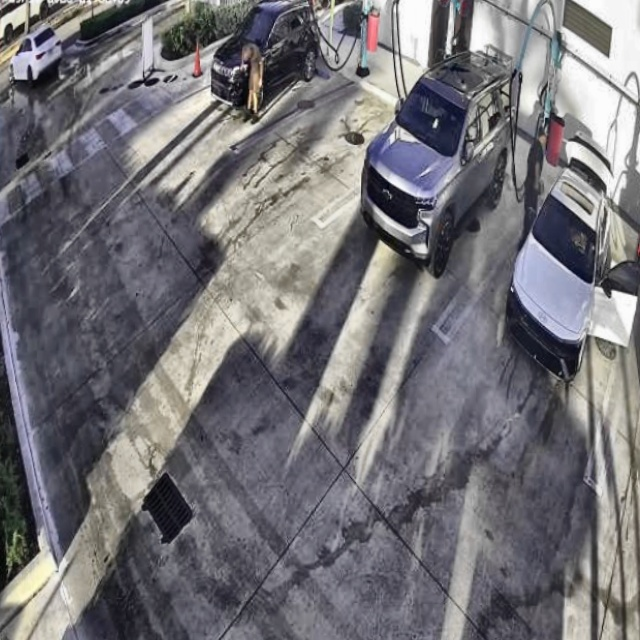Car: (358, 51, 514, 267)
